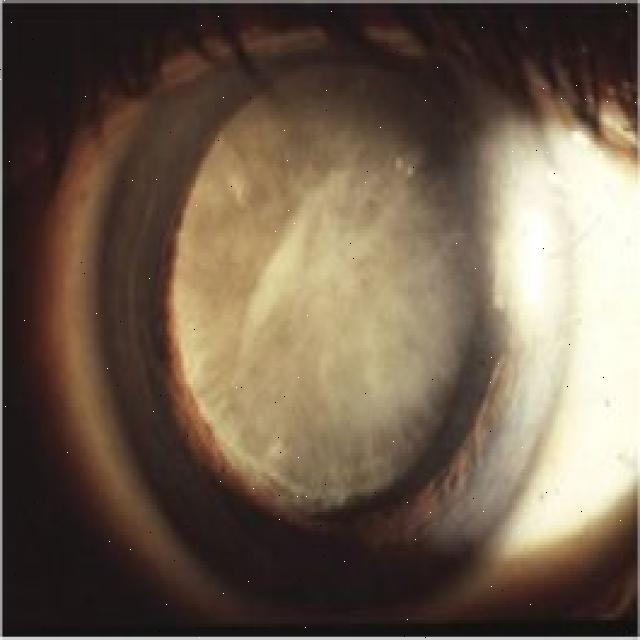Cataract: (92, 0, 574, 628)
